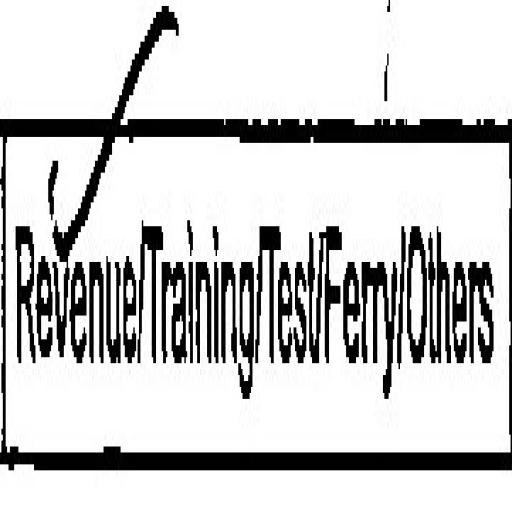check: (1, 0, 140, 507)
